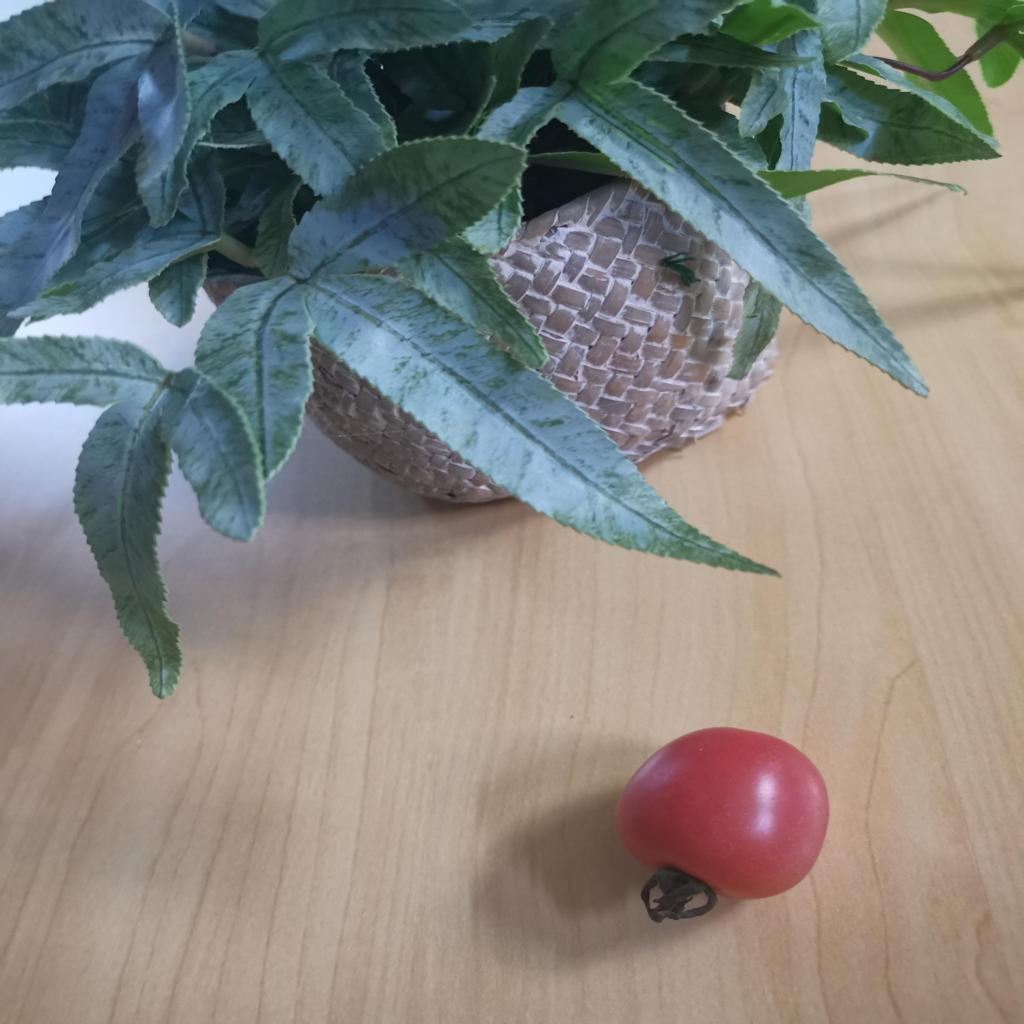tomato: (617, 726, 828, 906)
